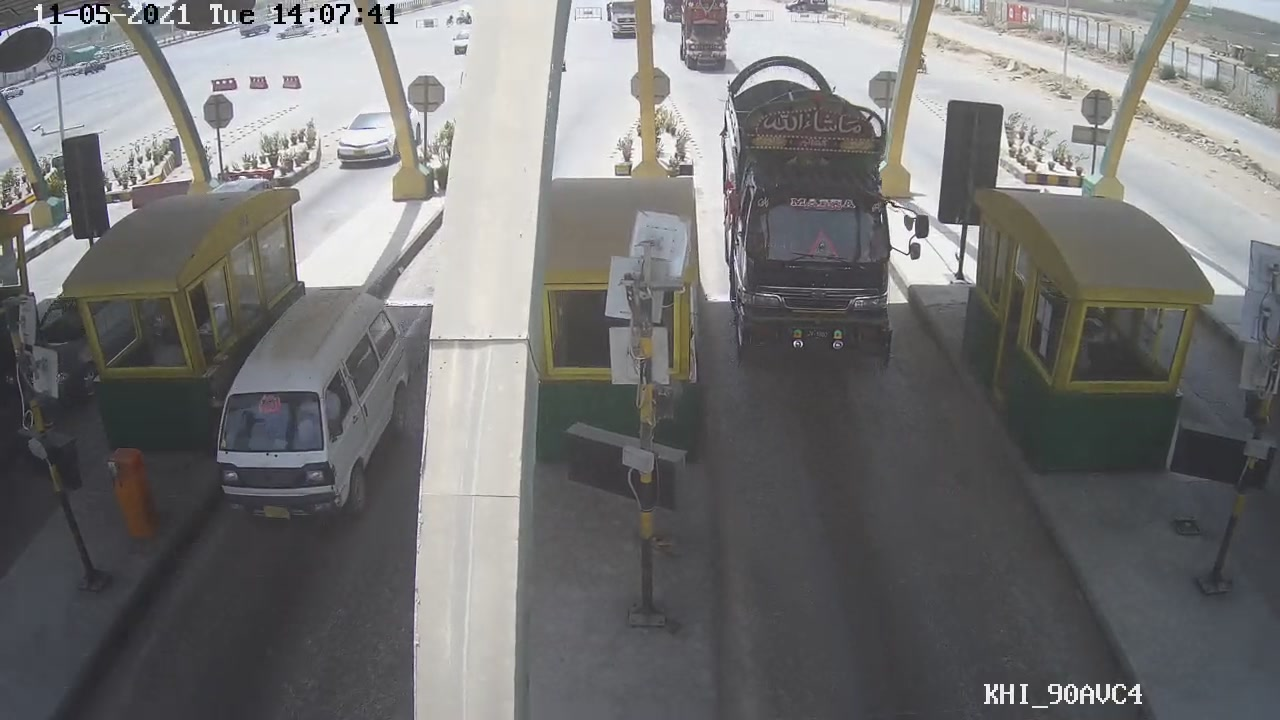F5: (708, 74, 909, 387)
